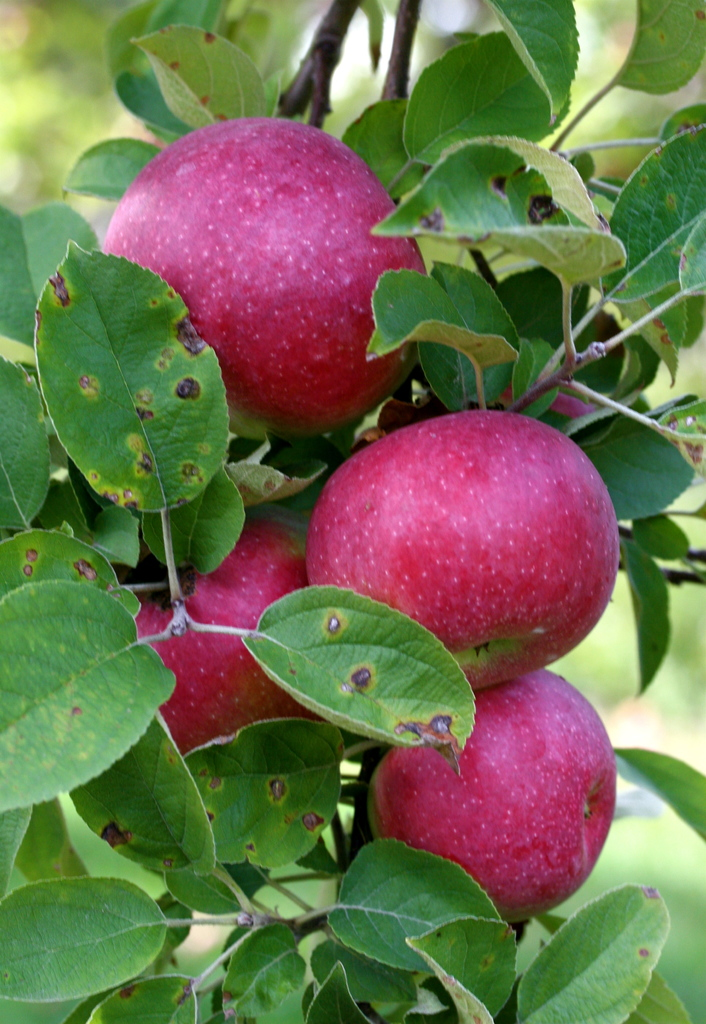Apple: (96, 112, 425, 446), (312, 413, 626, 678), (366, 664, 620, 919), (136, 514, 338, 754)
